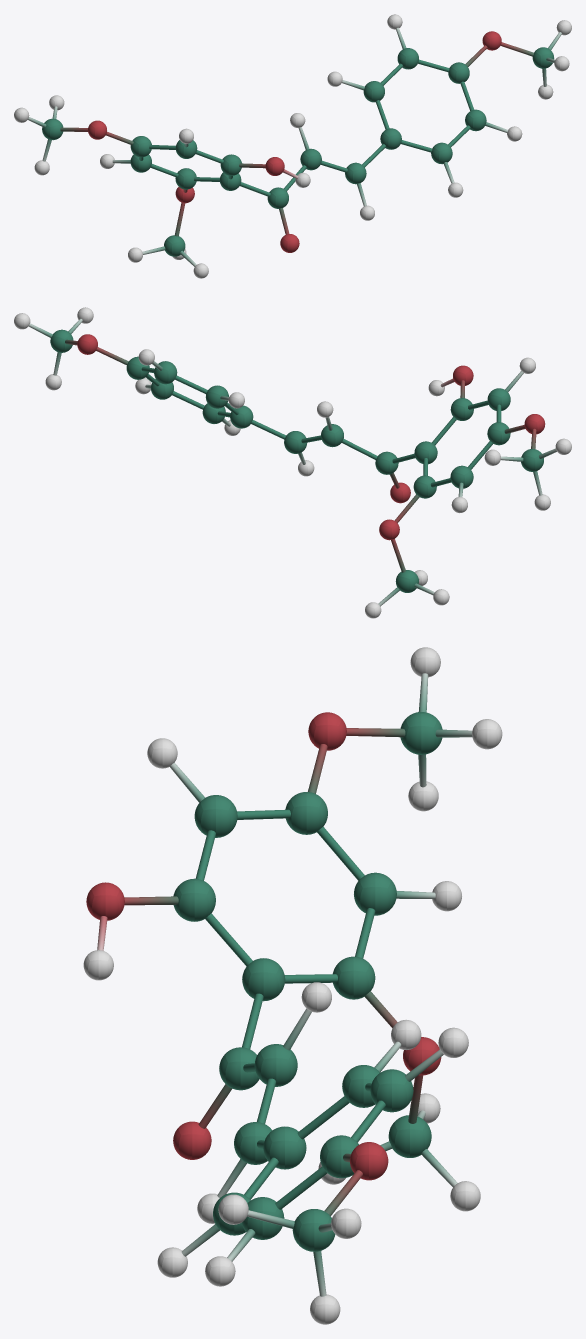
File: Flavokavain A.fbx
3 renders of one model, top to bottom at view 1: azimuth 30°, elevation 25°; view 2: azimuth 150°, elevation 25°; view 3: azimuth 270°, elevation 25°, orthographic. The views are drawn at different scales.
Parts seen in each view (by area): view 1: curMeshHyperballExportedMesh; view 2: curMeshHyperballExportedMesh; view 3: curMeshHyperballExportedMesh.
Boxes of the visible parts, x1=… form: curMeshHyperballExportedMesh: x1=14, y1=14, x2=571, y2=278; curMeshHyperballExportedMesh: x1=14, y1=307, x2=571, y2=618; curMeshHyperballExportedMesh: x1=83, y1=647, x2=502, y2=1324.
Size of the model in its own units: 16.24 by 5.85 by 5.5.
